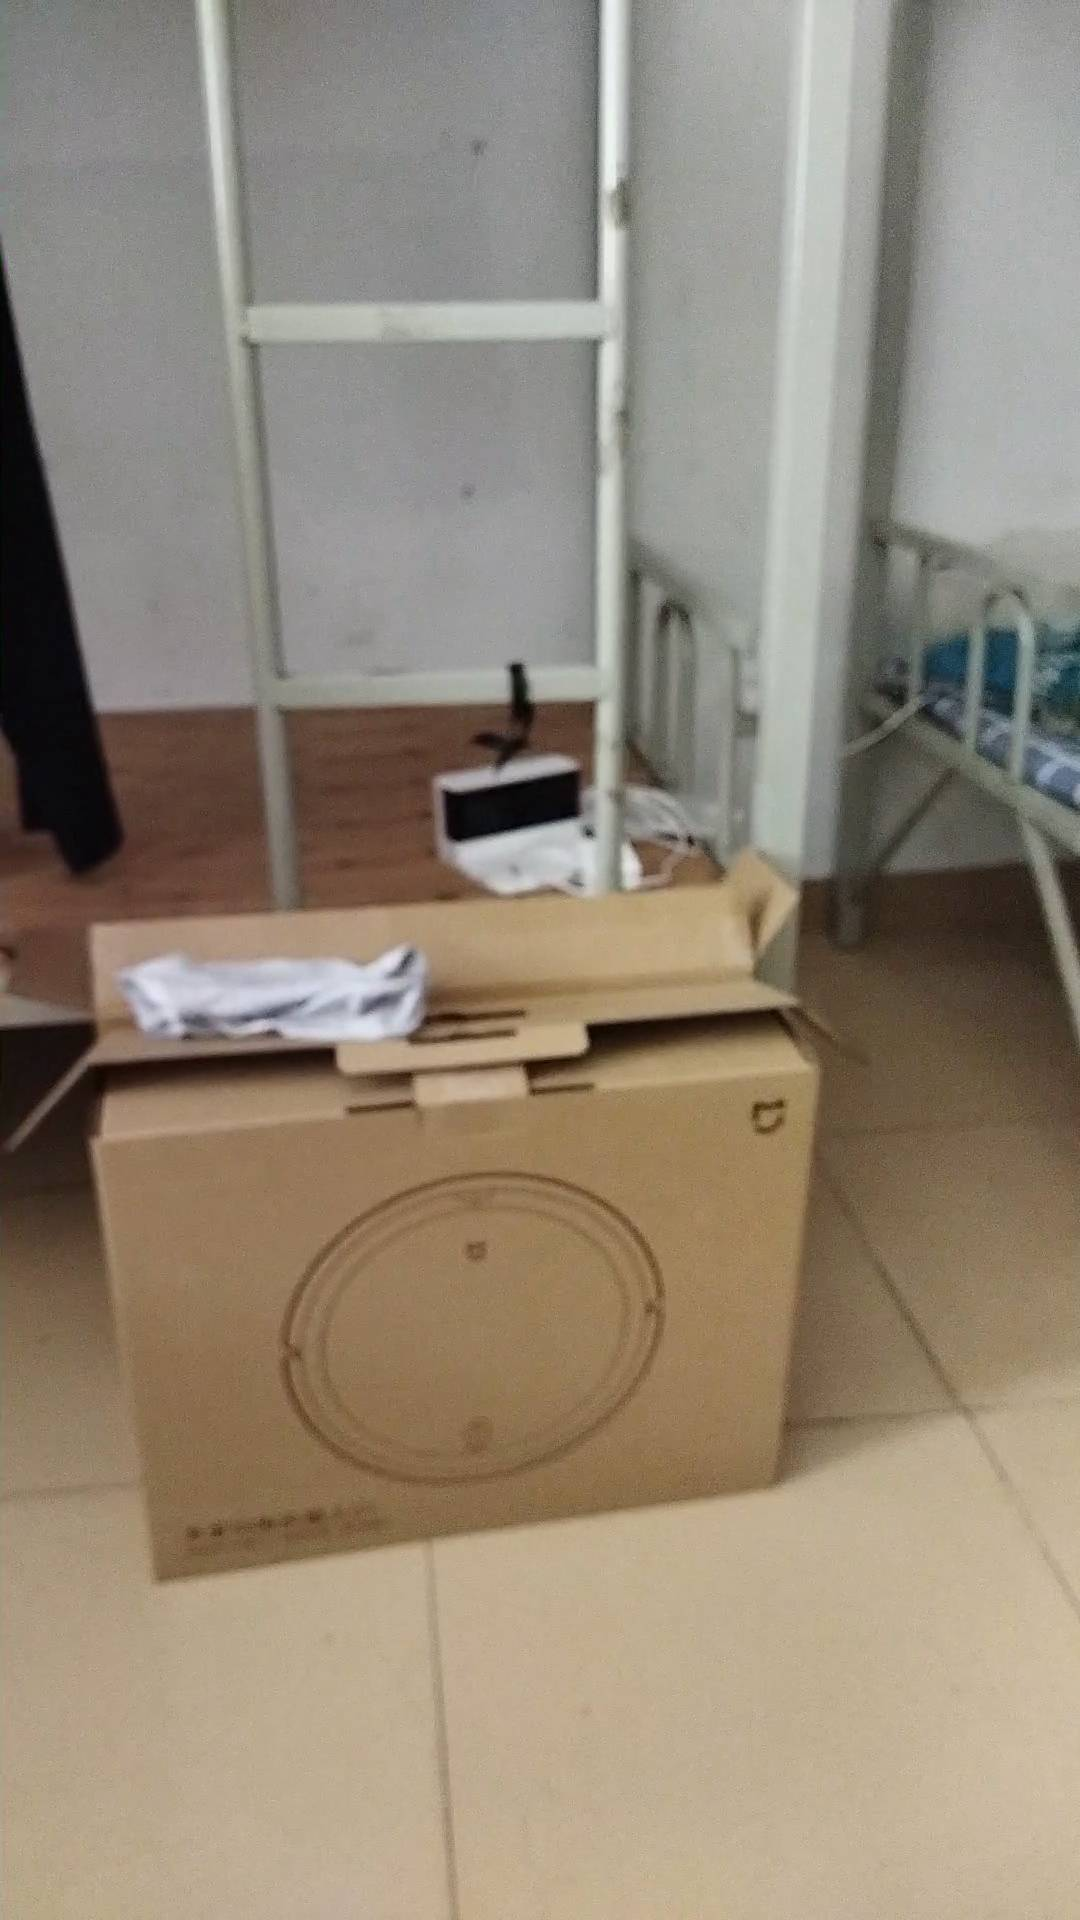recharge seat: (431, 753, 596, 894)
